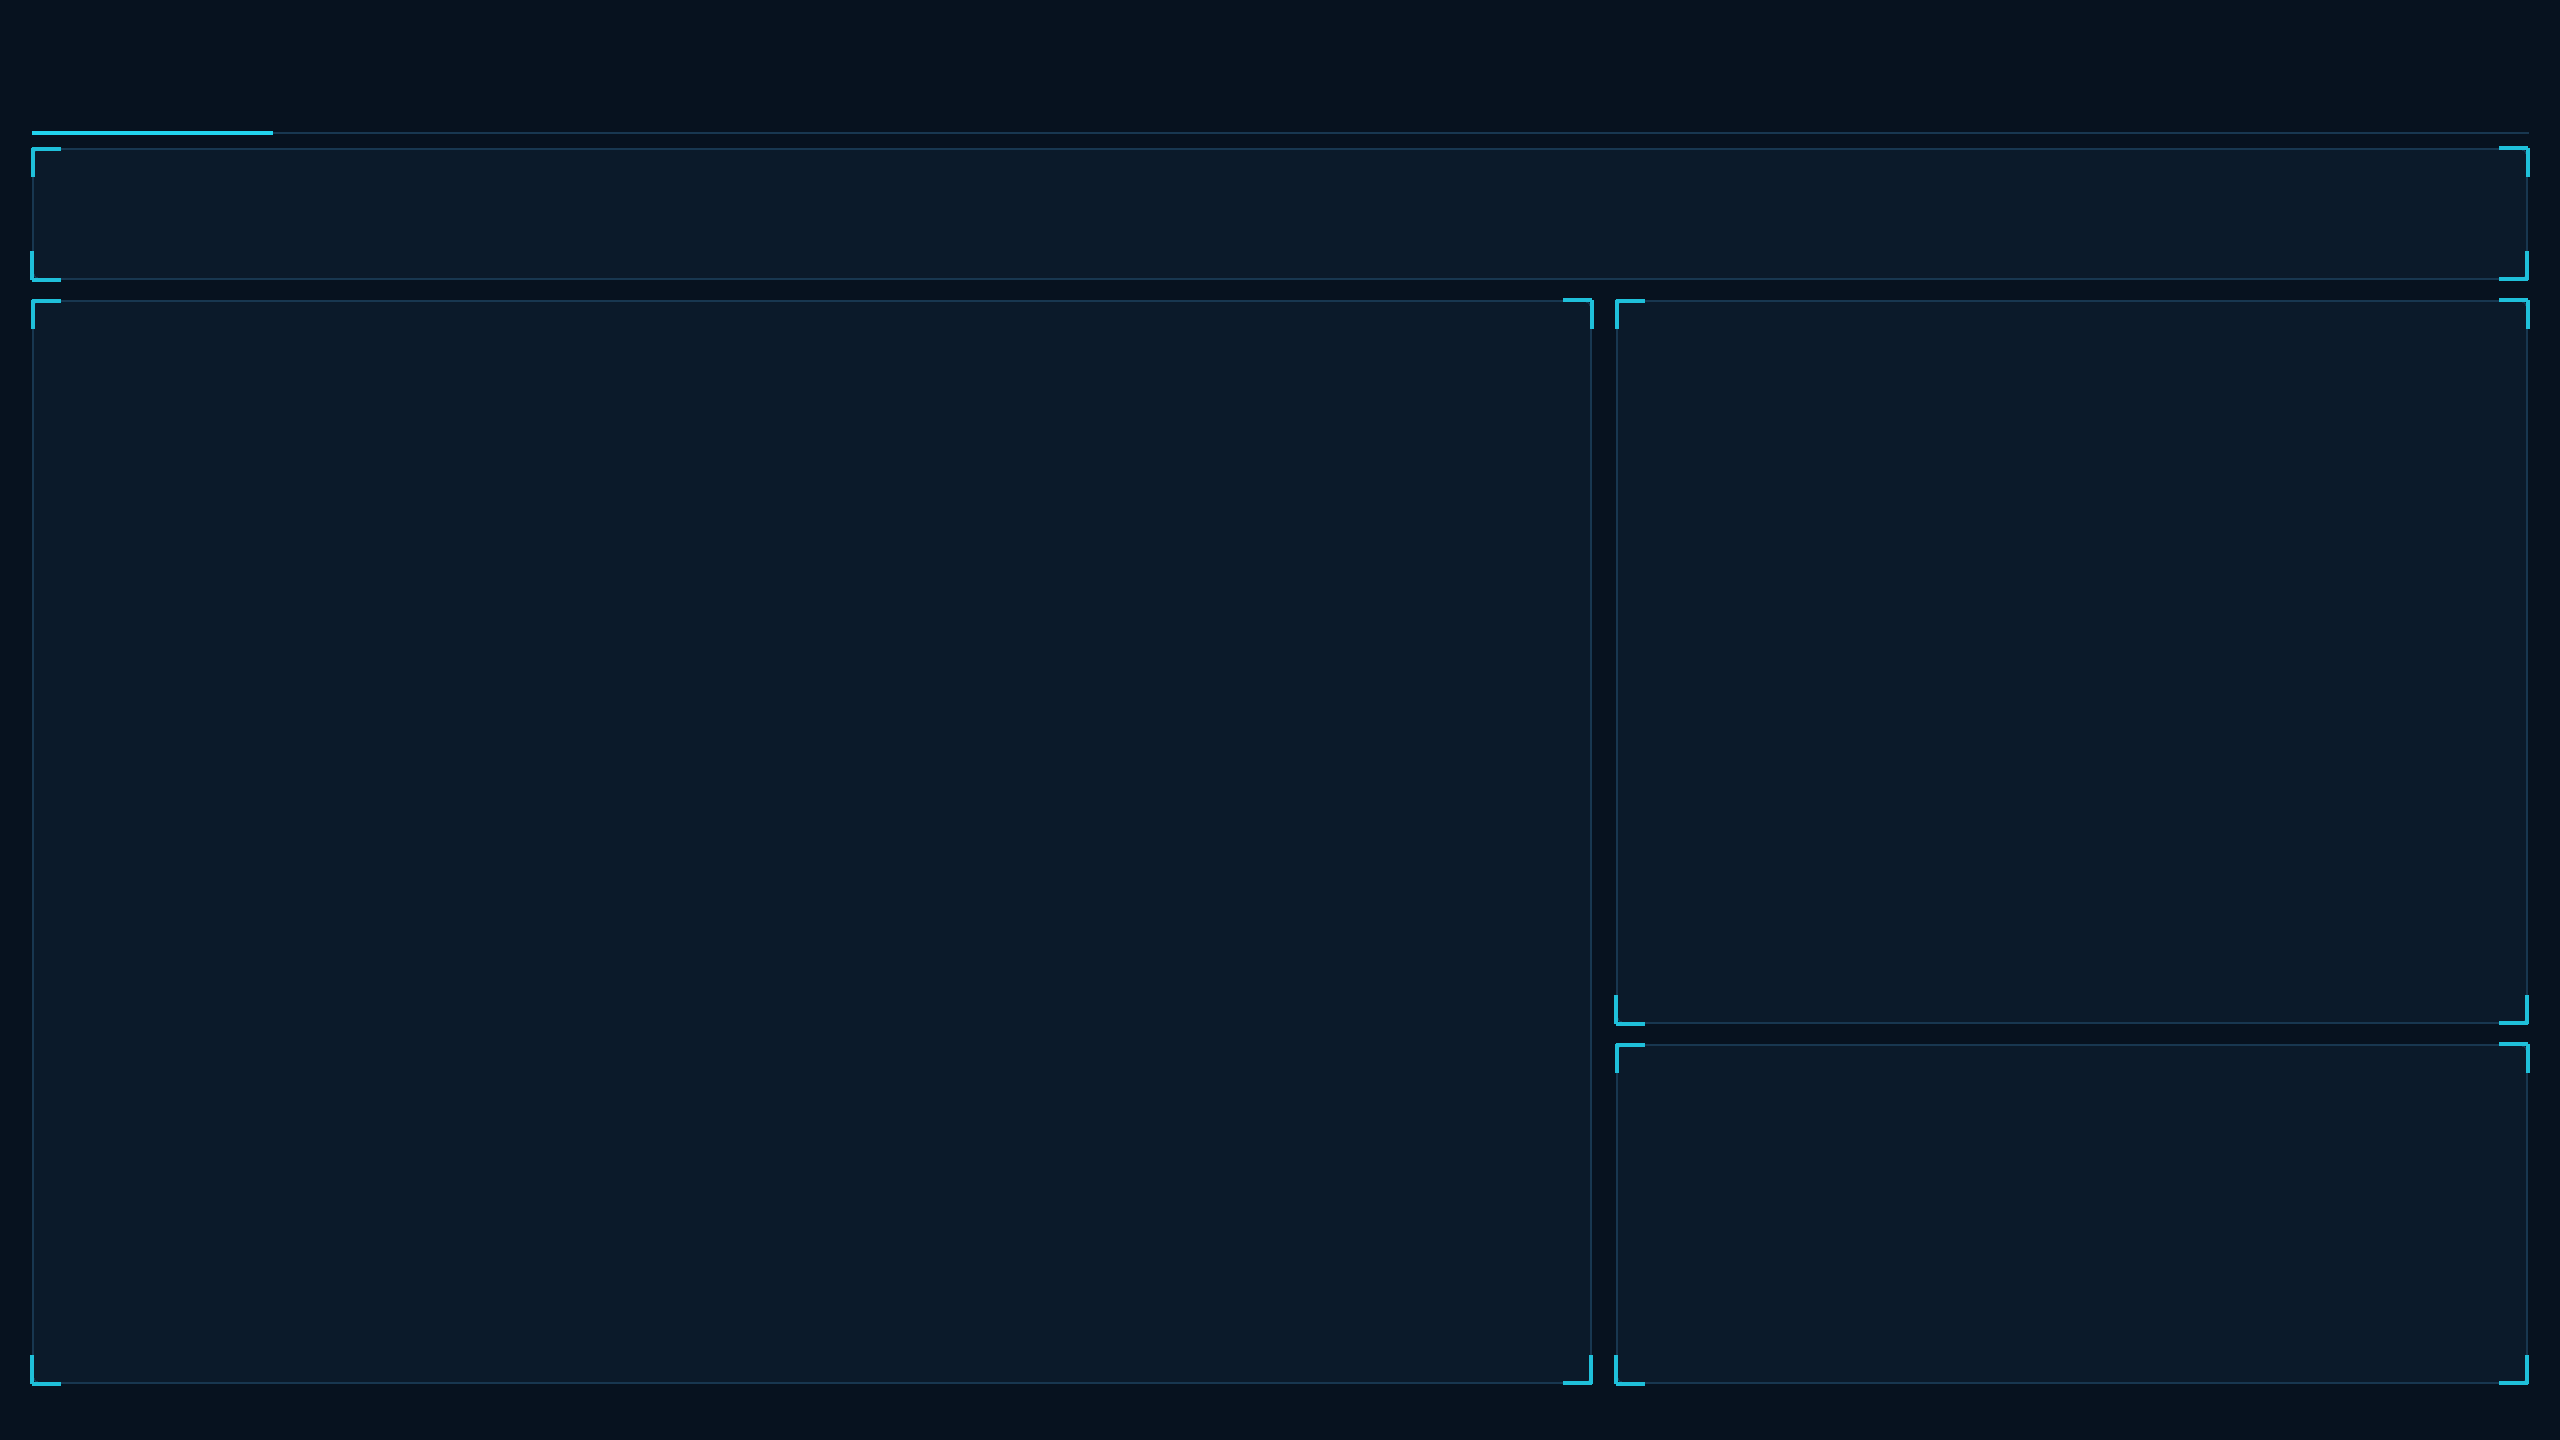

Layout of this report page (visuals, bound fields, positions):
{"tool":"powerbi","page":{"name":"Method and limits","canvas":[1280,720],"ordinal":6},"visuals":[{"type":"textbox","box":[16,8,1240,34],"z":0},{"type":"textbox","box":[16,40,1240,22],"z":1000},{"type":"textbox","box":[16,694,1248,24],"z":2000},{"type":"textbox","box":[32,88,588,588],"z":3000},{"type":"textbox","box":[664,88,584,588],"z":4000}]}

Visuals, with their boxes in screenshot pixels (x1, y1, x2, y2), scaled from the page's 1280x720 canvas onto the 2560x1440 screenshot:
textbox: 32, 16, 2512, 84
textbox: 32, 80, 2512, 124
textbox: 32, 1388, 2528, 1436
textbox: 64, 176, 1240, 1352
textbox: 1328, 176, 2496, 1352
